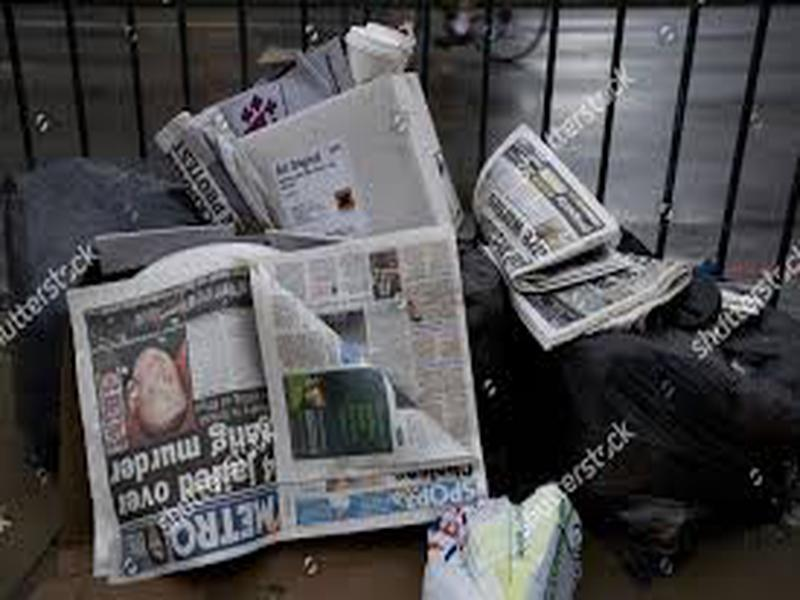cardboard: (241, 65, 467, 234)
paper: (67, 224, 492, 583), (472, 117, 696, 348)
plastic: (491, 314, 797, 582)
